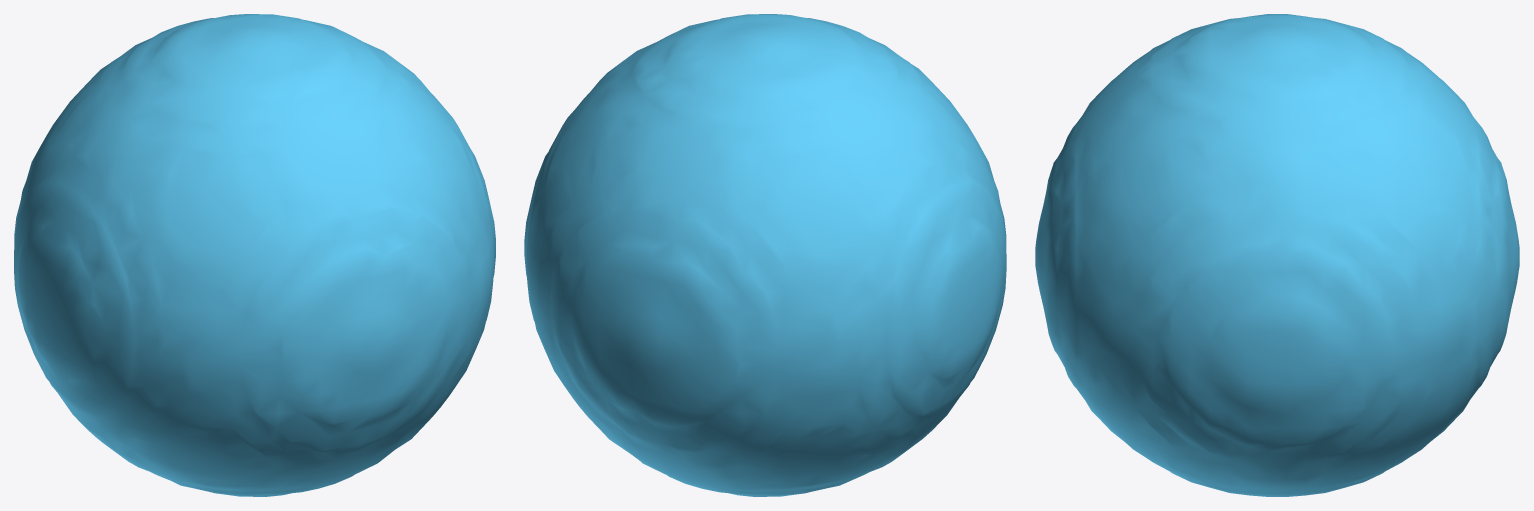
Rendered from bagBreakupFollow.glb.
3 renders of one model, left to right at view 1: azimuth 30°, elevation 25°; view 2: azimuth 150°, elevation 25°; view 3: azimuth 270°, elevation 25°, orthographic.
Visible parts, largest first — view 1: frame0000; view 2: frame0000; view 3: frame0000.
Part boxes in pixels (bbox=[...]): frame0000: bbox=[14, 14, 495, 496]; frame0000: bbox=[524, 14, 1006, 496]; frame0000: bbox=[1035, 14, 1519, 496].
Size of what is drawn, in the model's own units: 0.0189 by 0.0191 by 0.0191.
